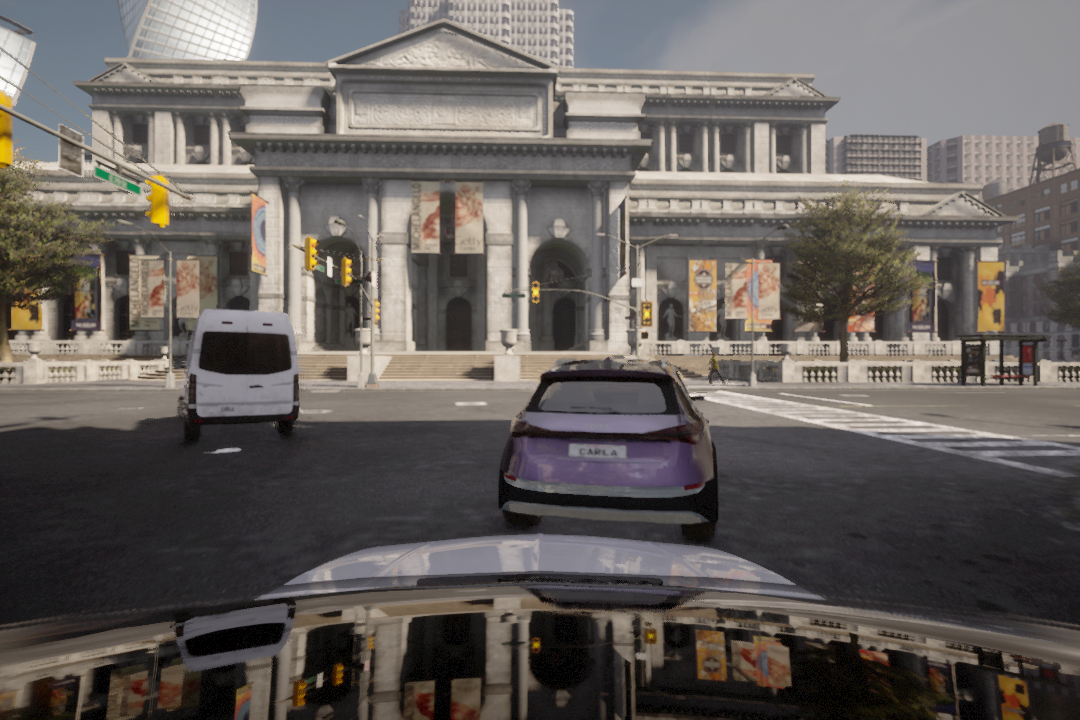TrafficLight: (304, 235, 317, 277), (636, 301, 654, 327), (340, 258, 353, 287), (531, 281, 543, 306)
walkside: (694, 391, 1080, 487)
